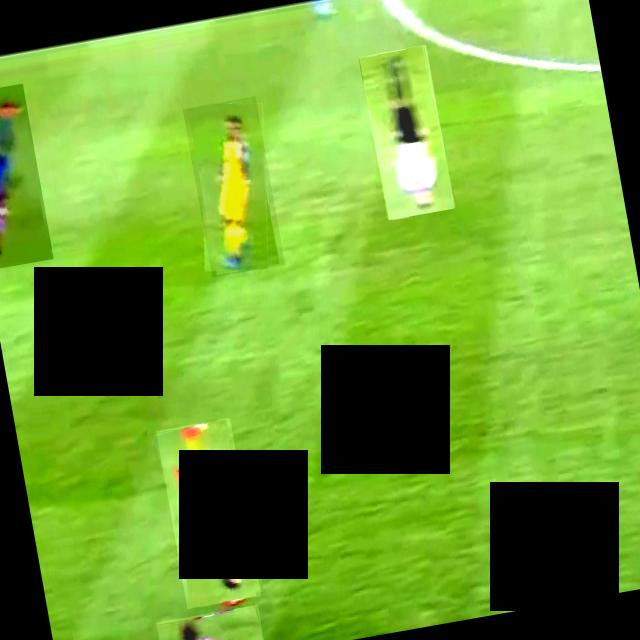referee: (358, 44, 453, 219)
soccer-player: (154, 417, 260, 608), (180, 95, 284, 276), (0, 82, 52, 269), (155, 603, 265, 640)
